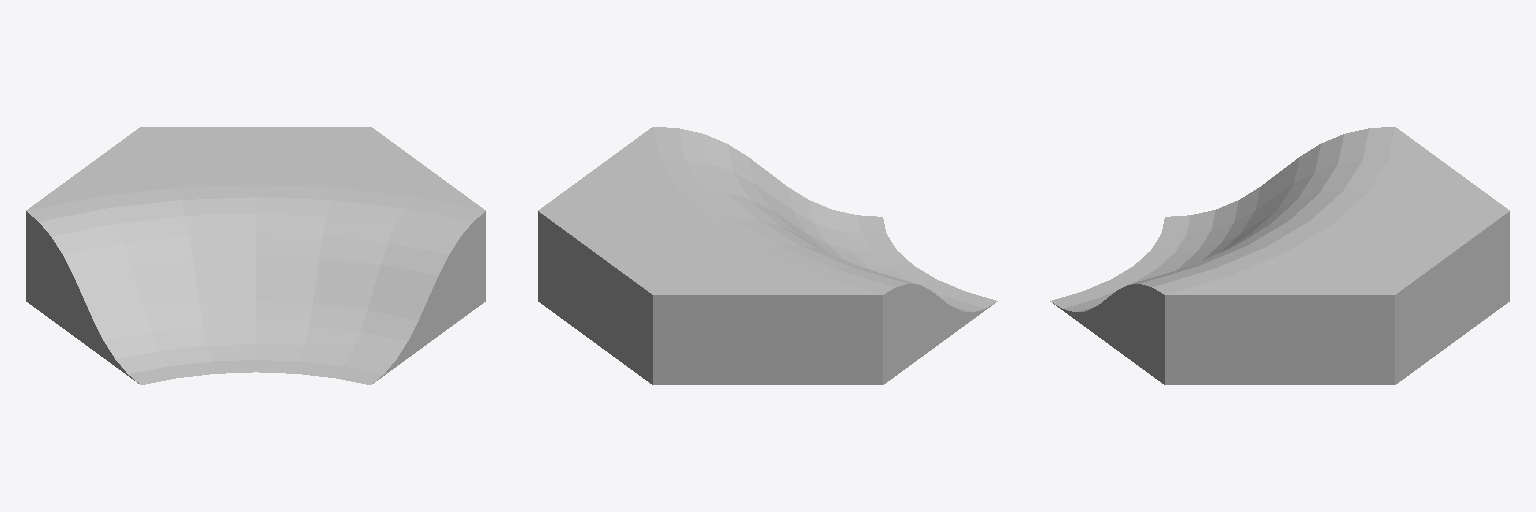
The model's file is Terrain_Grass_Hill_Curve_Inner_Gentle.obj.
3 renders of one model, left to right at view 1: azimuth 30°, elevation 25°; view 2: azimuth 150°, elevation 25°; view 3: azimuth 270°, elevation 25°, orthographic.
Parts seen in each view (by area): view 1: object1; view 2: object1; view 3: object1.
Part boxes in pixels (bbox=[...]): object1: bbox=[26, 127, 485, 384]; object1: bbox=[538, 127, 997, 384]; object1: bbox=[1050, 127, 1509, 384].
Bounding box in the file's own units: 1 × 0.25 × 1.15.